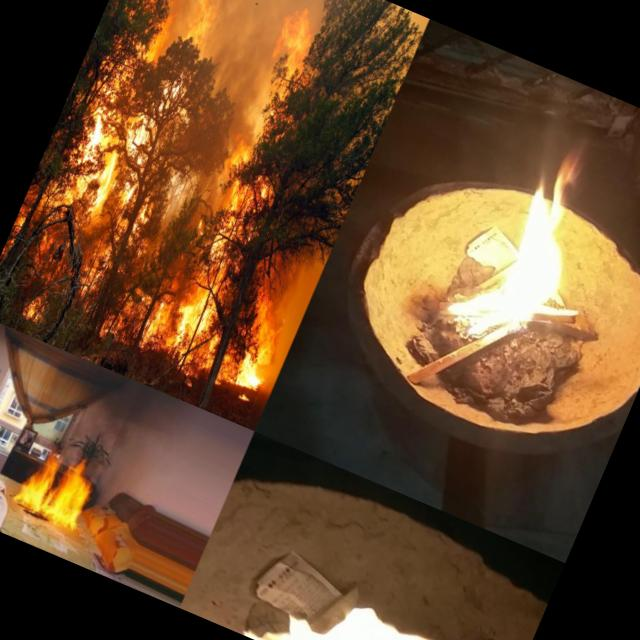fire: (426, 124, 618, 364), (234, 550, 451, 640), (204, 111, 294, 223), (10, 438, 105, 536), (222, 306, 294, 404), (261, 0, 330, 84), (173, 267, 230, 339), (75, 139, 128, 210), (132, 279, 180, 355), (176, 0, 236, 51), (138, 8, 182, 74), (18, 280, 56, 328)
smoke: (13, 344, 183, 484), (190, 0, 304, 113), (256, 239, 316, 316)
